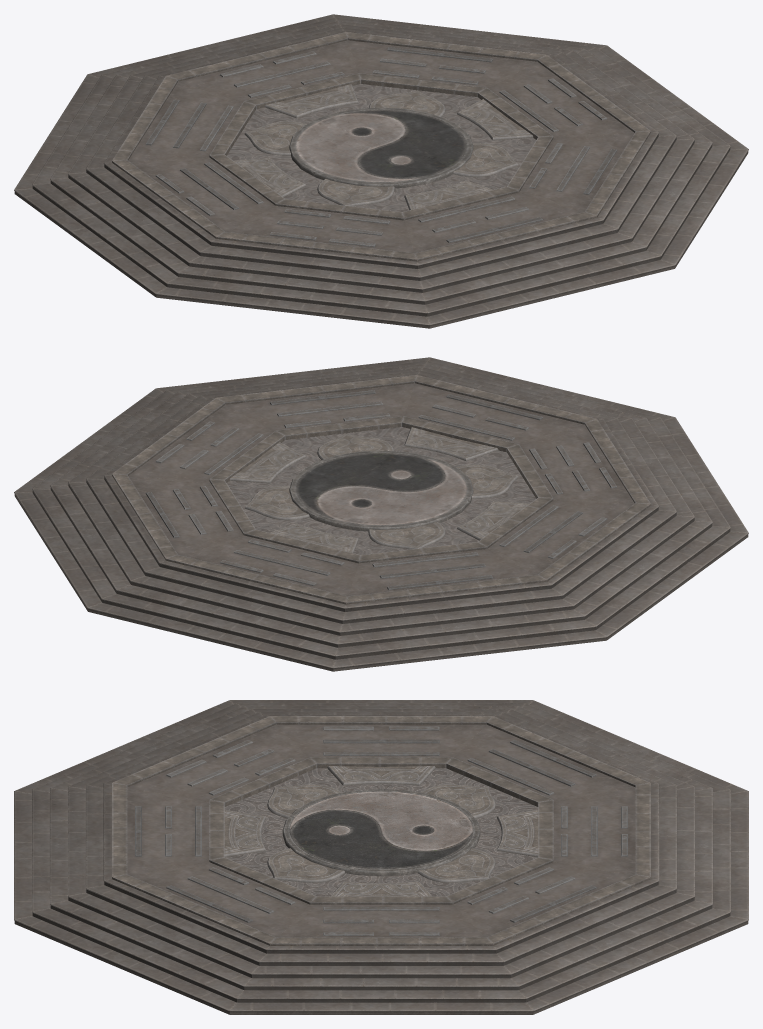
Rendered from SM_Ping_Tai_004.fbx.
3 renders of one model, top to bottom at view 1: azimuth 30°, elevation 25°; view 2: azimuth 150°, elevation 25°; view 3: azimuth 270°, elevation 25°, orthographic. The views are drawn at different scales.
Parts seen in each view (by area): view 1: SM_Ping_Tai_004; view 2: SM_Ping_Tai_004; view 3: SM_Ping_Tai_004.
Part boxes in pixels (bbox=[...]): SM_Ping_Tai_004: bbox=[14, 14, 748, 328]; SM_Ping_Tai_004: bbox=[14, 357, 748, 671]; SM_Ping_Tai_004: bbox=[14, 700, 748, 1014].
Bounding box in the file's own units: 4158 × 4158 × 187.
